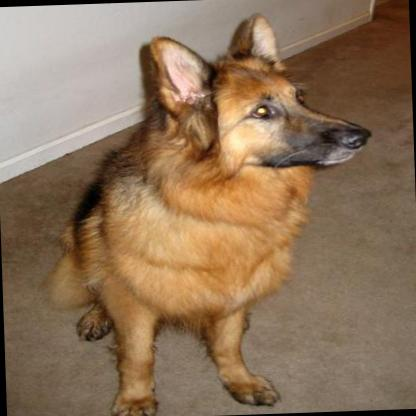German_shepherd: (34, 3, 377, 416)
